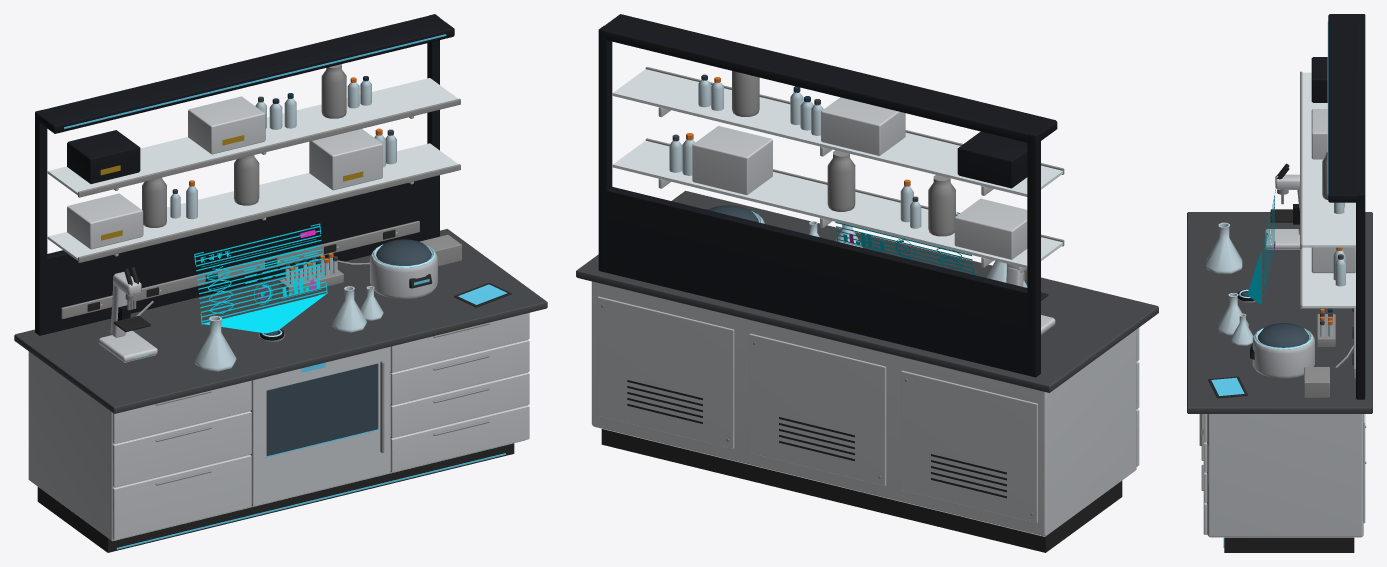
File: Lab_Bench.fbx
The picture shows the model from 3 angles, left to right: view 1: azimuth 30°, elevation 25°; view 2: azimuth 150°, elevation 25°; view 3: azimuth 270°, elevation 25°; orthographic projection. The views are drawn at different scales.
Visible parts, largest first — view 1: Lab_Bench_LOD0; view 2: Lab_Bench_LOD0; view 3: Lab_Bench_LOD0.
Part boxes in pixels (box(x1,y1,x2,y2)): Lab_Bench_LOD0: box(14, 14, 547, 552); Lab_Bench_LOD0: box(576, 14, 1158, 552); Lab_Bench_LOD0: box(1187, 14, 1372, 552).
Size of what is drawn, in the model's own units: 2.5 by 2.12 by 1.
